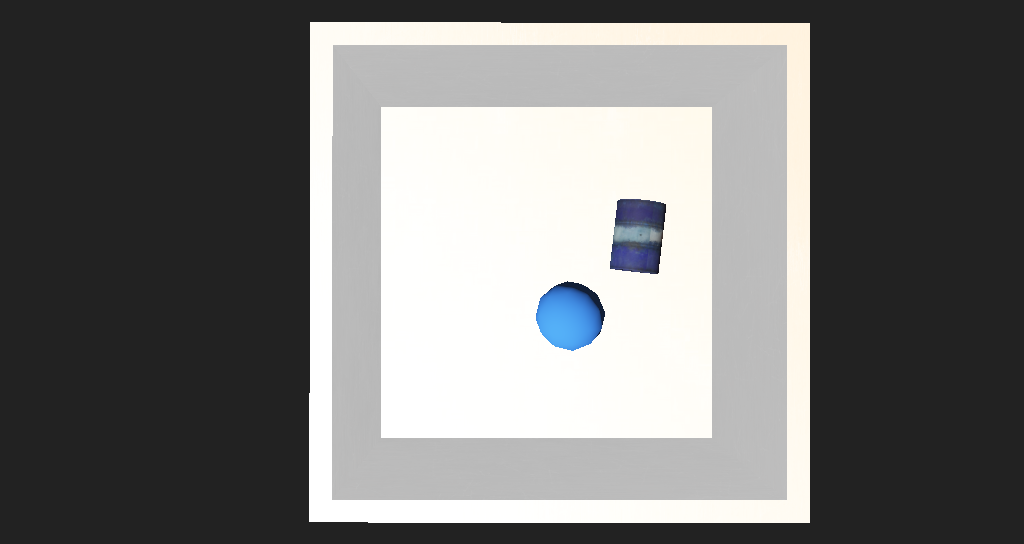cone: (559, 220, 613, 267)
sphere: (492, 272, 559, 320)
